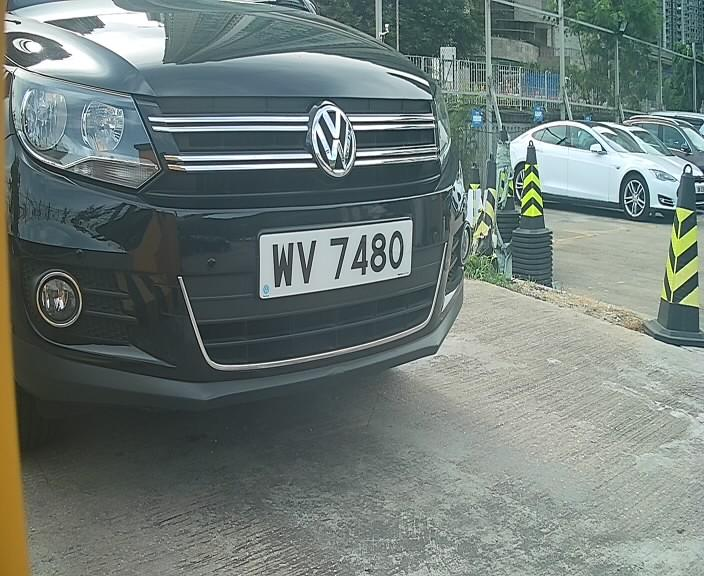License Plate: (252, 214, 415, 307)
